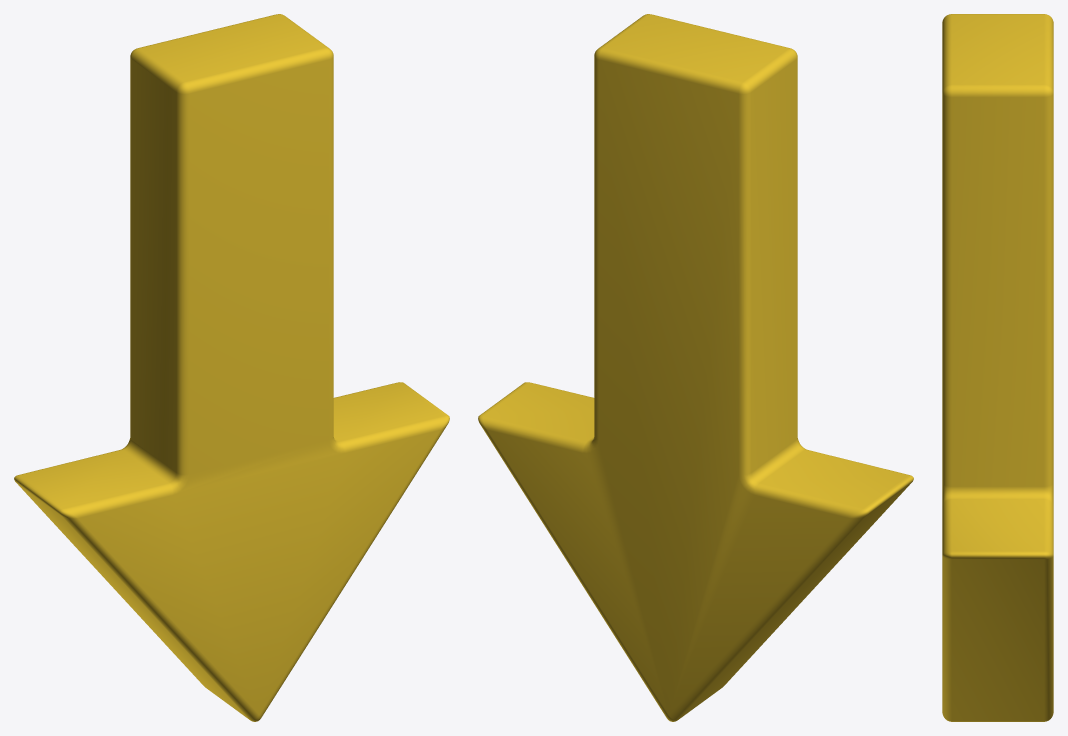
The model's file is Arrow.fbx.
3 views of the same model, side by side, from view 1: azimuth 30°, elevation 25°; view 2: azimuth 150°, elevation 25°; view 3: azimuth 270°, elevation 25° (orthographic). The views are drawn at different scales.
Parts seen in each view (by area): view 1: Vert.001; view 2: Vert.001; view 3: Vert.001.
Boxes of the visible parts, x1=… form: Vert.001: x1=14, y1=14, x2=449, y2=721; Vert.001: x1=478, y1=14, x2=913, y2=721; Vert.001: x1=942, y1=14, x2=1053, y2=721.
Size of the model in its own units: 124 by 199 by 30.
